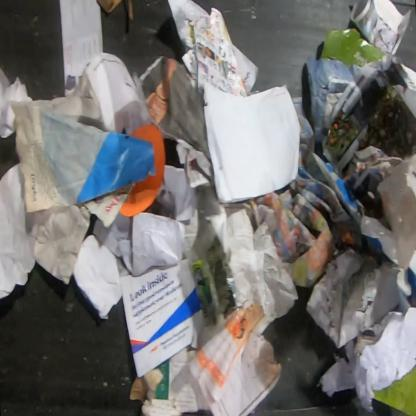cardboard: (128, 343, 211, 416), (318, 29, 386, 68), (372, 362, 415, 415)
